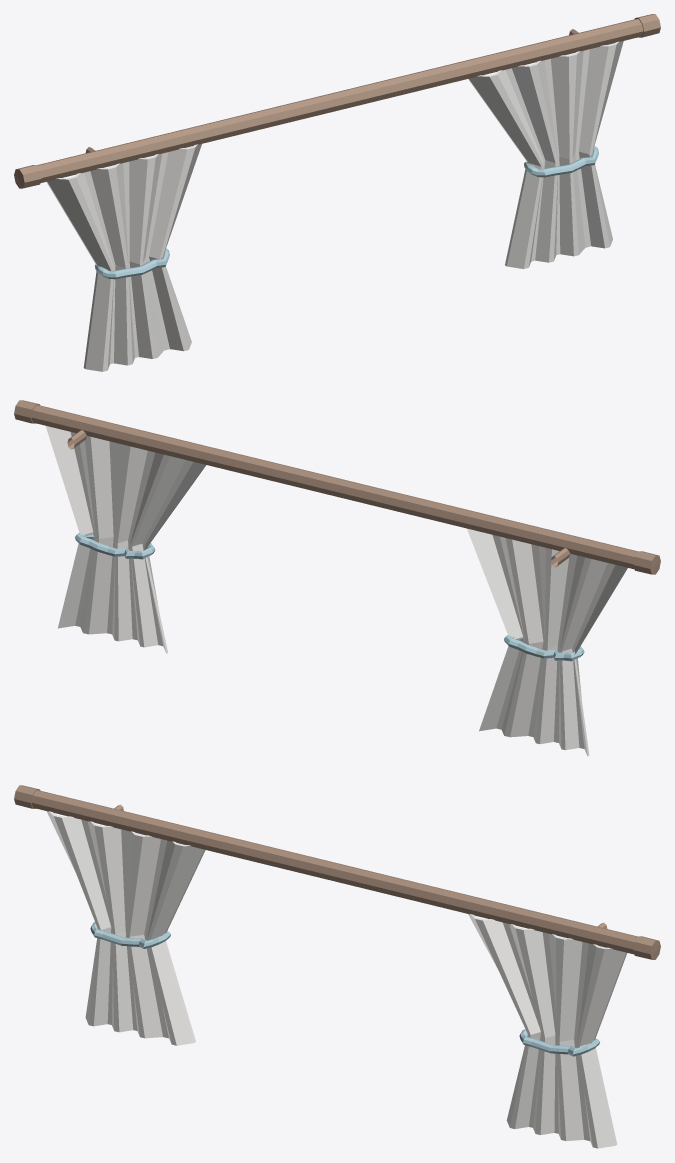
Rendered from Curtains_6.fbx.
3 views of the same model, one above another, from view 1: azimuth 30°, elevation 25°; view 2: azimuth 150°, elevation 25°; view 3: azimuth 330°, elevation 25° (orthographic).
Visible parts, largest first — view 1: Curtains_6; view 2: Curtains_6; view 3: Curtains_6.
Part boxes in pixels (left/top/right/bottom): Curtains_6: left=14, top=14, right=660, bottom=371; Curtains_6: left=14, top=400, right=660, bottom=756; Curtains_6: left=14, top=785, right=660, bottom=1148.
Size of the model in its own units: 324 by 23.82 by 105.
